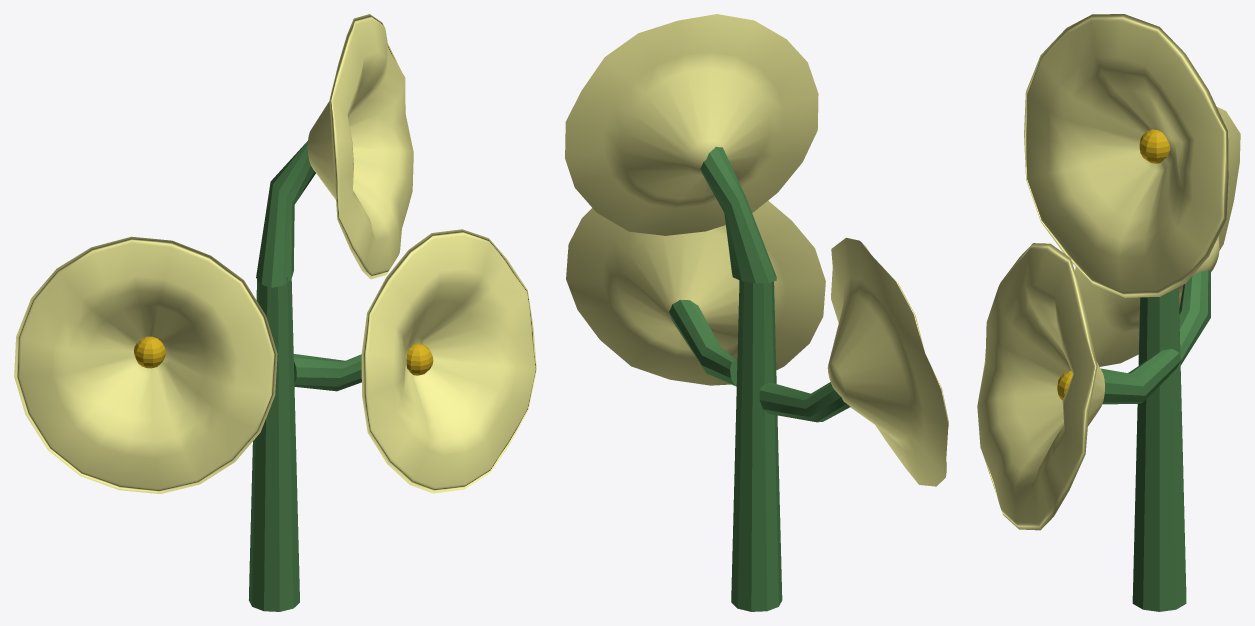
File: FlowerV1.obj
3 renders of one model, left to right at view 1: azimuth 30°, elevation 25°; view 2: azimuth 150°, elevation 25°; view 3: azimuth 270°, elevation 25°, orthographic. The views are drawn at different scales.
Parts seen in each view (by area): view 1: pSphere11; view 2: pSphere11; view 3: pSphere11.
Boxes of the visible parts, x1,y1,x2,y2 form: pSphere11: (14,14,536,611); pSphere11: (565,14,948,611); pSphere11: (977,14,1240,611).
Bounding box in the file's own units: 1.45 × 1.73 × 0.6715.
3 materials, 1 textured.
